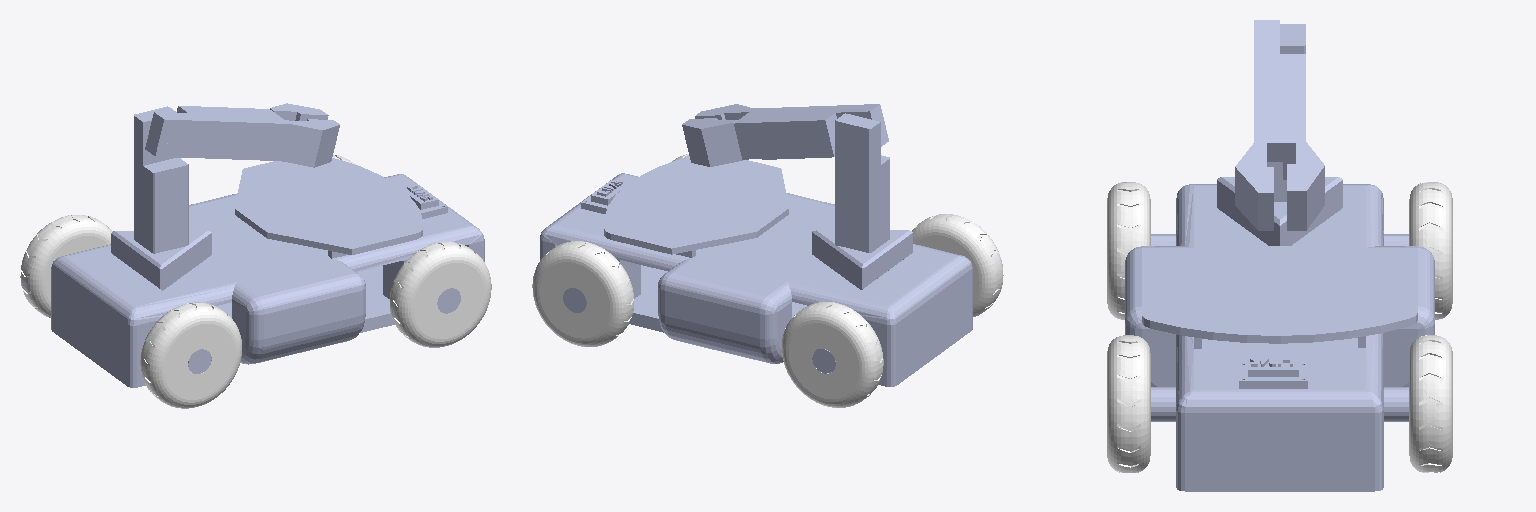
The robot description file, URDF, robot "seven":
<?xml version="1.0" encoding="utf-8"?>
<!-- This URDF was automatically created by SolidWorks to URDF Exporter! Originally created by [author] ([email redacted]) 
     Commit Version: 1.6.0-4-g7f85cfe  Build Version: 1.6.7995.38578
     For more information, please see http://wiki.ros.org/sw_urdf_exporter -->
<robot
  name="seven">
  <link
    name="base_link">
    <inertial>
      <origin
        xyz="-0.0090364701647061 -3.98188088988413E-06 0.0155812579426484"
        rpy="0 0 0" />
      <mass
        value="22.8088620947384" />
      <inertia
        ixx="0.327676919372414"
        ixy="0.00101091075582643"
        ixz="-0.0122992399301582"
        iyy="0.860034084387453"
        iyz="-0.000591235146193935"
        izz="1.0455106513372" />
    </inertial>
    <visual>
      <origin
        xyz="0 0 0"
        rpy="0 0 0" />
      <geometry>
        <mesh
          filename="package://seven/meshes/base_link.STL" />
      </geometry>
      <material
        name="l">
        <color
          rgba="0.792156862745098 0.819607843137255 0.933333333333333 1" />
      </material>
    </visual>
    <collision>
      <origin
        xyz="0 0 0"
        rpy="0 0 0" />
      <geometry>
        <mesh
          filename="package://seven/meshes/base_link.STL" />
      </geometry>
    </collision>
  </link>
  <link
    name="link_rb">
    <inertial>
      <origin
        xyz="-9.13003006530744E-12 0.0299996587490909 -1.5227649002858E-11"
        rpy="0 0 0" />
      <mass
        value="1.48261250288933" />
      <inertia
        ixx="0.00378178590529205"
        ixy="6.9590228825428E-13"
        ixz="6.71509664005912E-13"
        iyy="0.00676196225634647"
        iyz="2.18859676659095E-12"
        izz="0.00378178590557582" />
    </inertial>
    <visual>
      <origin
        xyz="0 0 0"
        rpy="0 0 0" />
      <geometry>
        <mesh
          filename="package://seven/meshes/link_rb.STL" />
      </geometry>
      <material
        name="">
        <color
          rgba="1 1 1 1" />
      </material>
    </visual>
    <collision>
      <origin
        xyz="0 0 0"
        rpy="0 0 0" />
      <geometry>
        <mesh
          filename="package://seven/meshes/link_rb.STL" />
      </geometry>
    </collision>
  </link>
  <joint
    name="joint_rb"
    type="continuous">
    <origin
      xyz="-0.27068 -0.23996 -0.025002"
      rpy="0 0 0" />
    <parent
      link="base_link" />
    <child
      link="link_rb" />
    <axis
      xyz="0 1 0" />
  </joint>
  <link
    name="link_lb">
    <inertial>
      <origin
        xyz="7.51043671698426E-12 -0.0299996587490848 1.52953205656559E-11"
        rpy="0 0 0" />
      <mass
        value="1.4826125028972" />
      <inertia
        ixx="0.00378178590482591"
        ixy="7.8126806341392E-13"
        ixz="3.26618714590892E-13"
        iyy="0.00676196225644493"
        iyz="1.8162723072729E-12"
        izz="0.00378178590602968" />
    </inertial>
    <visual>
      <origin
        xyz="0 0 0"
        rpy="0 0 0" />
      <geometry>
        <mesh
          filename="package://seven/meshes/link_lb.STL" />
      </geometry>
      <material
        name="">
        <color
          rgba="1 1 1 1" />
      </material>
    </visual>
    <collision>
      <origin
        xyz="0 0 0"
        rpy="0 0 0" />
      <geometry>
        <mesh
          filename="package://seven/meshes/link_lb.STL" />
      </geometry>
    </collision>
  </link>
  <joint
    name="joint_lb"
    type="continuous">
    <origin
      xyz="-0.27068 0.24004 -0.025002"
      rpy="0 0 0" />
    <parent
      link="base_link" />
    <child
      link="link_lb" />
    <axis
      xyz="0 1 0" />
  </joint>
  <link
    name="link_rf">
    <inertial>
      <origin
        xyz="1.73352998622534E-11 0.0299996587491544 2.24118640312909E-12"
        rpy="0 0 0" />
      <mass
        value="1.4826125028907" />
      <inertia
        ixx="0.003781785906135"
        ixy="-2.2442618944636E-12"
        ixz="-9.19797452820909E-14"
        iyy="0.00676196225633982"
        iyz="-5.63993558335591E-13"
        izz="0.00378178590469724" />
    </inertial>
    <visual>
      <origin
        xyz="0 0 0"
        rpy="0 0 0" />
      <geometry>
        <mesh
          filename="package://seven/meshes/link_rf.STL" />
      </geometry>
      <material
        name="">
        <color
          rgba="1 1 1 1" />
      </material>
    </visual>
    <collision>
      <origin
        xyz="0 0 0"
        rpy="0 0 0" />
      <geometry>
        <mesh
          filename="package://seven/meshes/link_rf.STL" />
      </geometry>
    </collision>
  </link>
  <joint
    name="joint_rf"
    type="continuous">
    <origin
      xyz="0.233319504963329 -0.23996043409085 -0.0250018002769645"
      rpy="0 0 0" />
    <parent
      link="base_link" />
    <child
      link="link_rf" />
    <axis
      xyz="0 1 0" />
  </joint>
  <link
    name="link_lf">
    <inertial>
      <origin
        xyz="7.10703718098671E-12 -0.029999658749041 1.55933425893817E-11"
        rpy="0 0 0" />
      <mass
        value="1.48261250289728" />
      <inertia
        ixx="0.00378178590486045"
        ixy="7.85414046395546E-13"
        ixz="3.12051937726312E-13"
        iyy="0.00676196225646206"
        iyz="1.72555136231926E-12"
        izz="0.00378178590601772" />
    </inertial>
    <visual>
      <origin
        xyz="0 0 0"
        rpy="0 0 0" />
      <geometry>
        <mesh
          filename="package://seven/meshes/link_lf.STL" />
      </geometry>
      <material
        name="">
        <color
          rgba="1 1 1 1" />
      </material>
    </visual>
    <collision>
      <origin
        xyz="0 0 0"
        rpy="0 0 0" />
      <geometry>
        <mesh
          filename="package://seven/meshes/link_lf.STL" />
      </geometry>
    </collision>
  </link>
  <joint
    name="joint_lf"
    type="continuous">
    <origin
      xyz="0.23332 0.24004 -0.025002"
      rpy="0 0 0" />
    <parent
      link="base_link" />
    <child
      link="link_lf" />
    <axis
      xyz="0 1 0" />
  </joint>
</robot>

--- Render facts (derived) ---
Views: 3 orthographic renders of the robot side by side, from view 1: azimuth 30°, elevation 25°; view 2: azimuth 150°, elevation 25°; view 3: azimuth 270°, elevation 25°.
Robot: seven — 5 links, 4 joints (4 continuous); root link base_link; default pose: all joints at 0.
Links seen in each view (by area): view 1: base_link, link_rb, link_rf, link_lb; view 2: base_link, link_lb, link_lf, link_rb; view 3: base_link, link_rf, link_lf, link_rb, link_lb.
Link boxes in pixels (x1,y1,x2,y2): base_link: (51,103,484,387); link_rb: (140,302,241,408); link_rf: (390,242,491,347); link_lb: (20,215,112,317); base_link: (540,104,972,386); link_lb: (782,302,883,407); link_lf: (532,241,633,346); link_rb: (912,214,1003,317); base_link: (1125,20,1434,491); link_rf: (1107,335,1150,472); link_lf: (1409,335,1452,472); link_rb: (1107,182,1150,319); link_lb: (1409,182,1452,319).
Size in the robot's own frame: 0.732 by 0.48 by 0.4711 metres.
5 mesh visuals loaded from 5 distinct referenced files (5 binary STL).